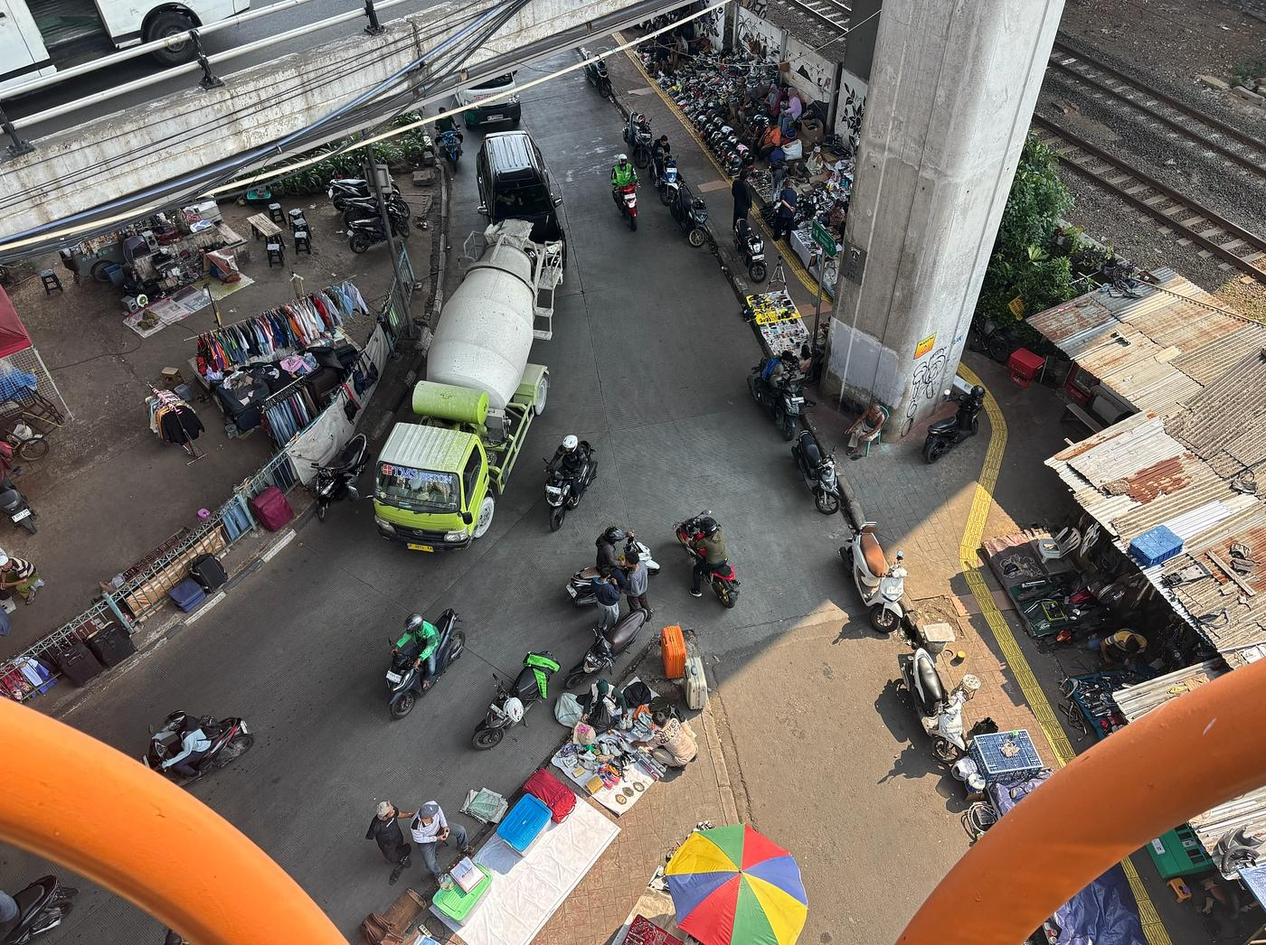Emperan: (424, 685, 690, 940), (190, 279, 380, 444), (57, 203, 247, 335)
Payung: (658, 822, 810, 940)
